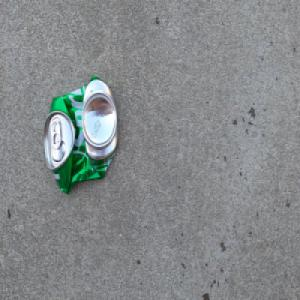SodaCan: (43, 73, 119, 196)
